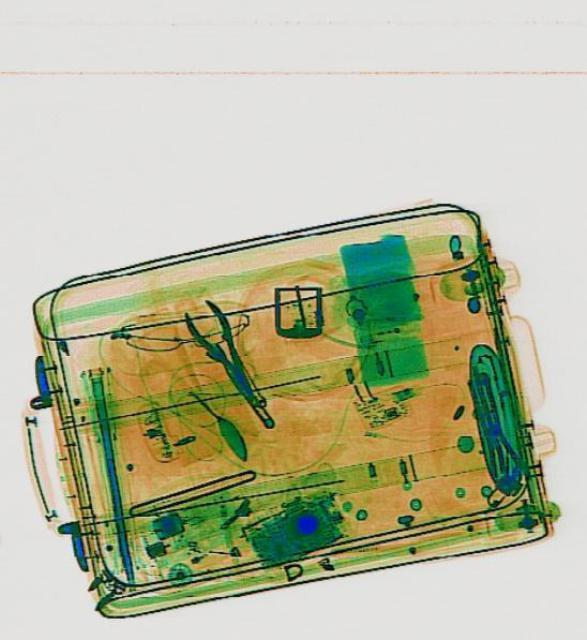Pliers: (175, 292, 271, 408)
